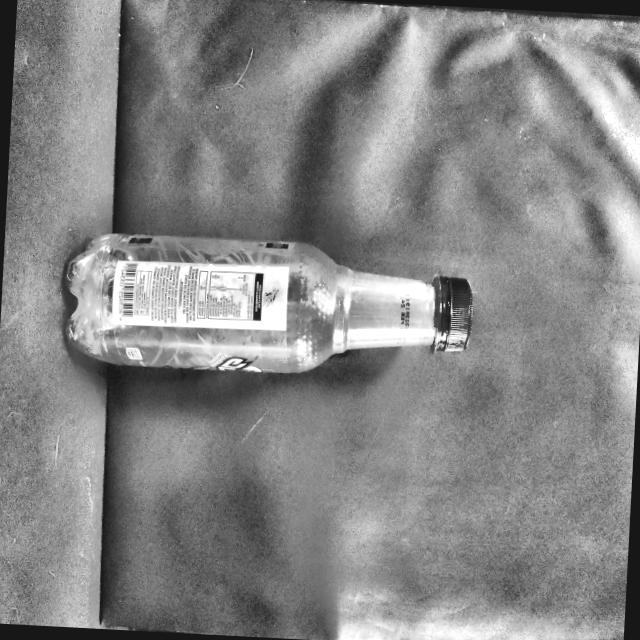Plastic-Bottle: (58, 227, 479, 387)
